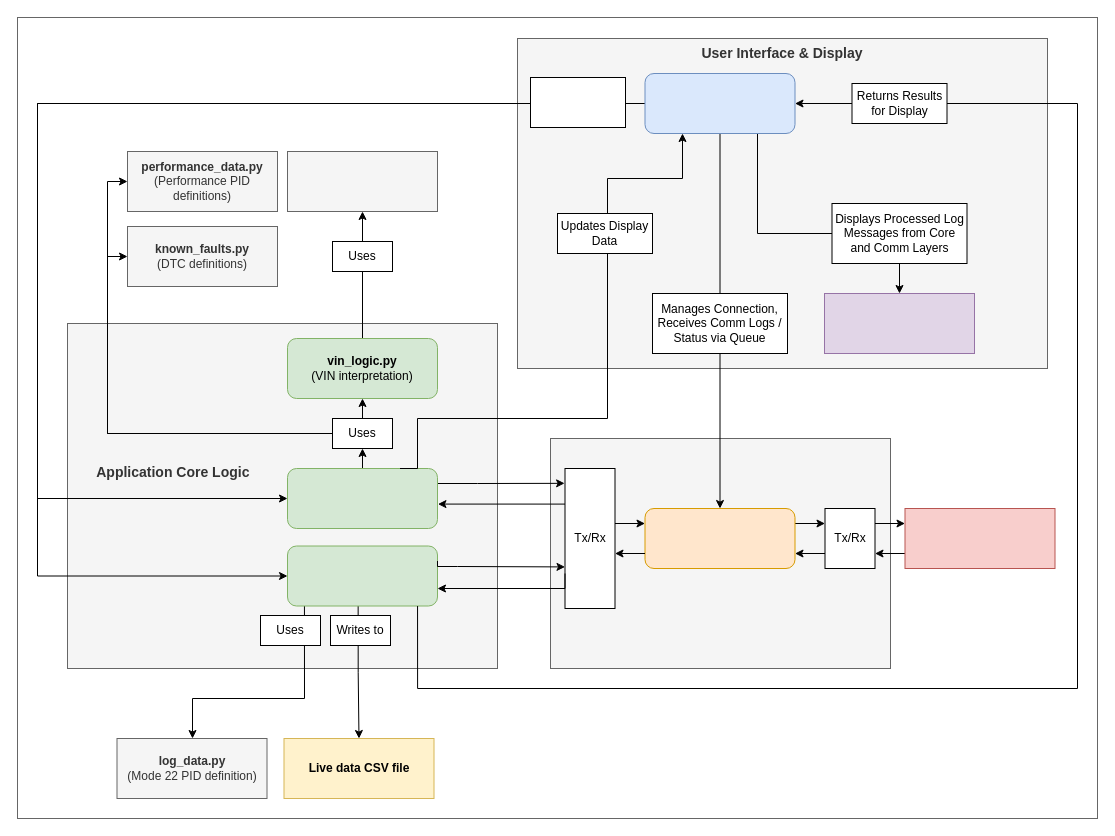
The diagram is 1115 pixels wide and 836 high, and some of its shapes have lost their labels. Each missing label, with the box of its shape:
can_communication.py (CAN message handling, ISO-TP, HW interface): (644, 508, 795, 568)
CANbus Hardware: (904, 508, 1055, 568)
Communication Layer: (550, 438, 890, 668)
diagnostics.py (Diagnostic routines: VIN, Faults, Performance): (286, 468, 438, 528)
Initiates/Controls and provides CANComm to: (530, 76, 626, 128)
live_dashboard.py (Live data engine, CSV logging): (286, 545, 438, 606)
Log Display Tab (Status & error messages): (824, 292, 974, 354)
main_gui.py (UI Events, data display, controls): (644, 72, 795, 134)
vehicles.py (Vehicle spec database): (286, 150, 438, 212)
